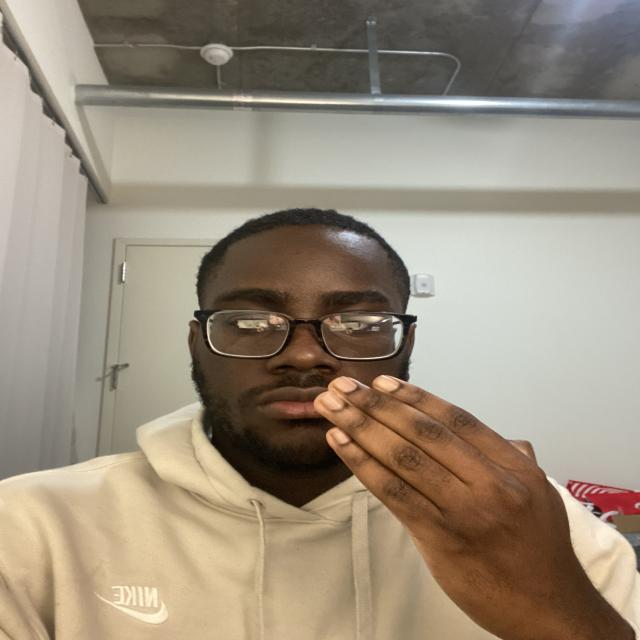Thank you: (297, 359, 597, 576)
